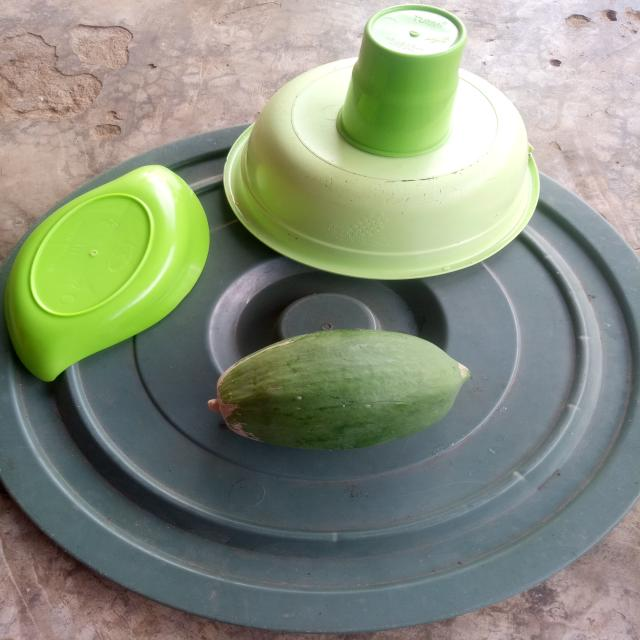Pepaya unrippen: (199, 328, 474, 458)
